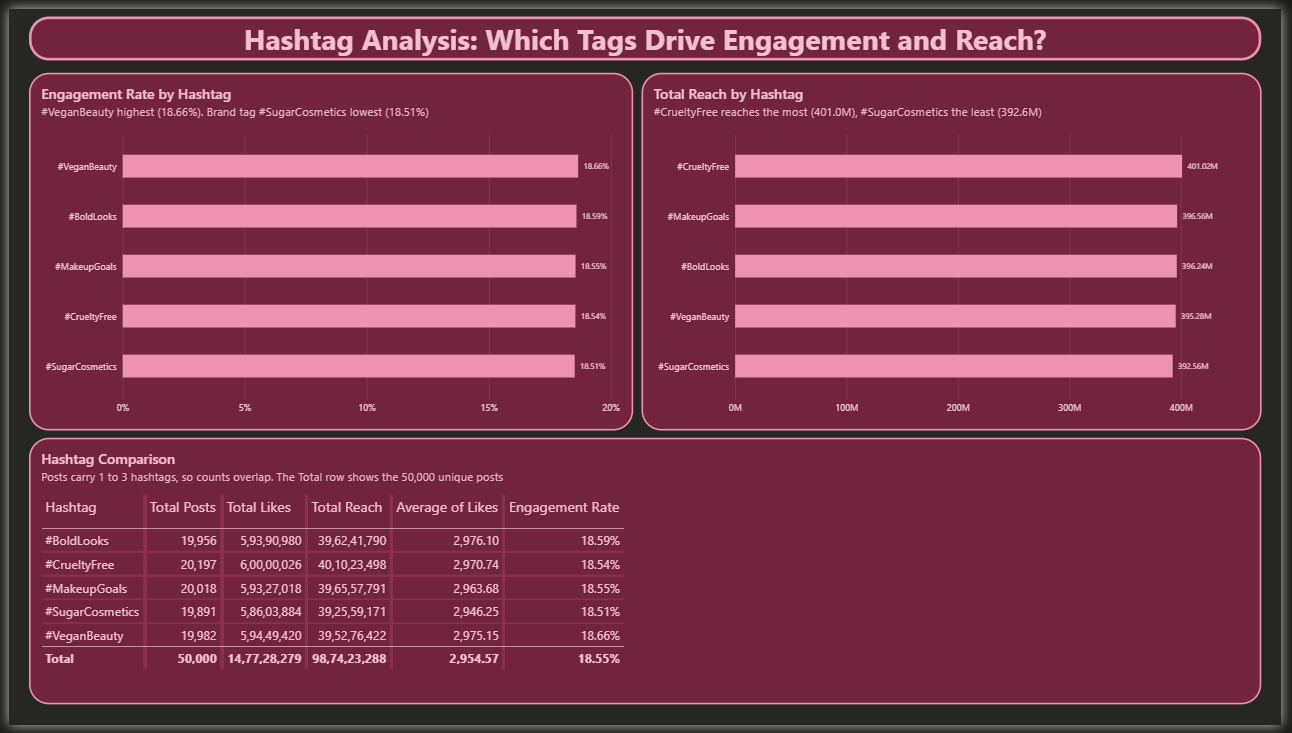

The dashboard page shown, as its layout file describes it:
{"tool":"powerbi","page":{"name":"Hashtag Analysis","canvas":[1920,1080],"ordinal":5},"visuals":[{"type":"clusteredBarChart","title":"Engagement Rate by Hashtag","fields":{"Category":["Hashtags.Hashtag"],"Y":["Posts.Engagement Rate"]},"box":[30,96,912,540],"z":0},{"type":"clusteredBarChart","title":"Total Reach by Hashtag","fields":{"Category":["Hashtags.Hashtag"],"Y":["Posts.Total Reach"]},"box":[954,96,936,540],"z":1000},{"type":"tableEx","title":"Hashtag Comparison","fields":{"Values":["Hashtags.Hashtag","Posts.Total Posts","Posts.Total Likes","Posts.Total Reach","Posts.Likes","Posts.Engagement Rate"]},"box":[30,648,1860,402],"z":2000},{"type":"textbox","box":[30,12,1860,66],"z":3000}]}

Visuals, with their boxes in screenshot pixels (x1, y1, x2, y2), scaled from the page's 1920x1080 canvas onto the 1292x733 screenshot:
"Engagement Rate by Hashtag" clusteredBarChart: <bbox>20, 65, 634, 432</bbox>
"Total Reach by Hashtag" clusteredBarChart: <bbox>642, 65, 1272, 432</bbox>
"Hashtag Comparison" tableEx: <bbox>20, 440, 1272, 713</bbox>
textbox: <bbox>20, 8, 1272, 53</bbox>
